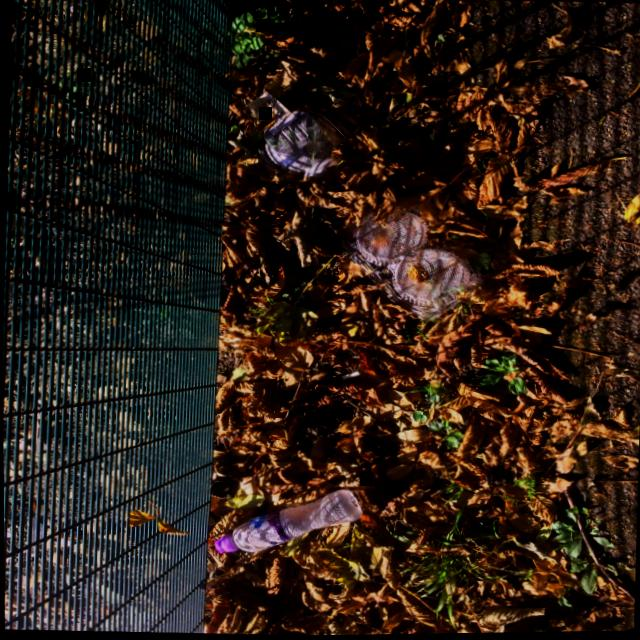Cigarette: (338, 370, 358, 380)
Clear plastic bottle: (212, 489, 360, 553)
Disposable food container: (339, 206, 482, 322), (257, 103, 352, 190)
Normal paper: (246, 91, 296, 135)
Plastic bottle cap: (212, 533, 234, 553)
